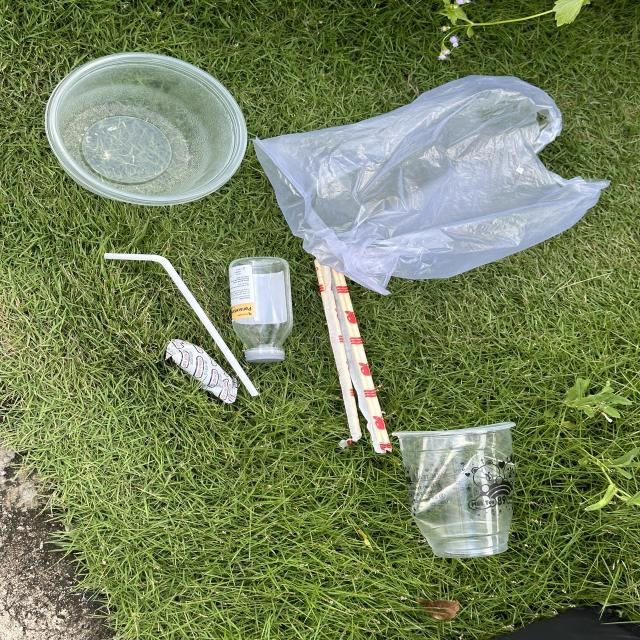bag: (254, 75, 611, 295)
bottle: (228, 256, 294, 363)
drinking straw: (104, 252, 260, 398)
paper: (168, 339, 238, 404)
plastic glass: (393, 422, 515, 558)
plastic holder: (44, 54, 246, 207)
plastic utensil: (315, 261, 391, 453)
